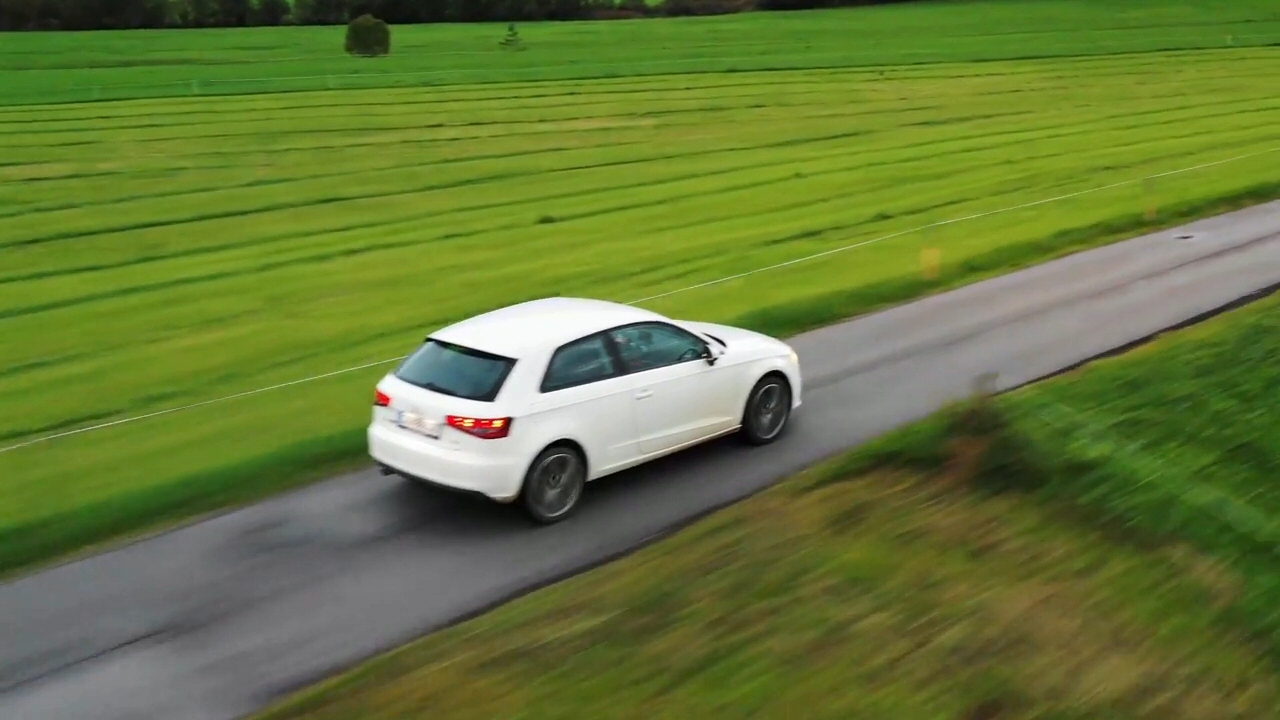araba: (368, 295, 802, 525)
